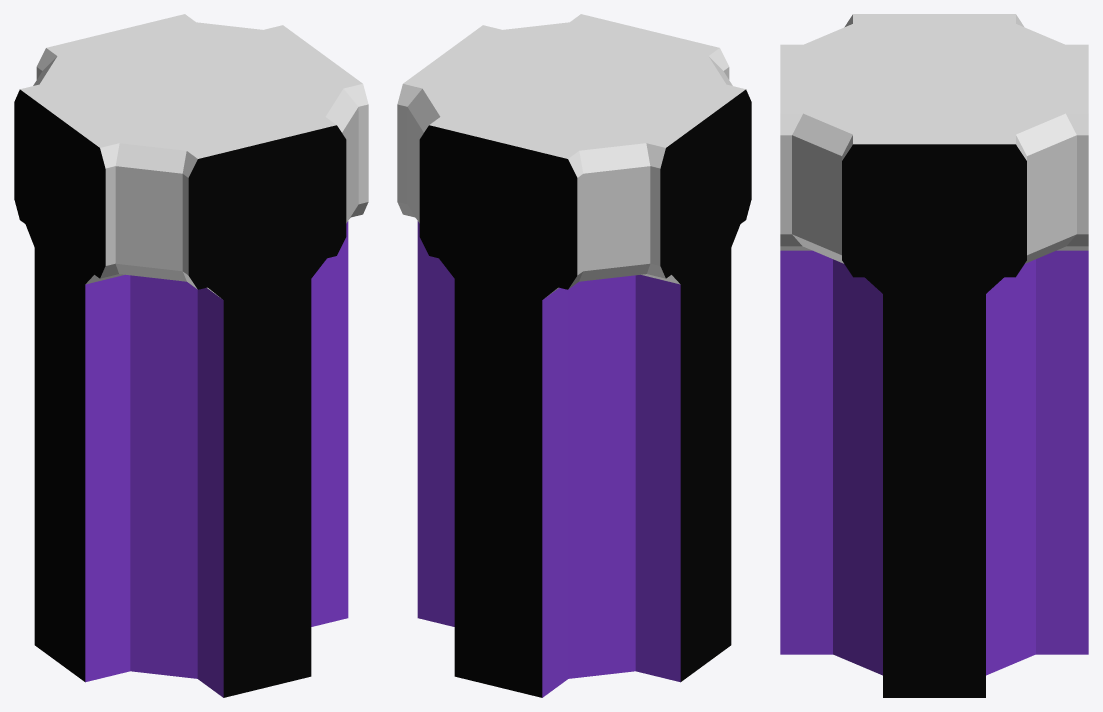
Rendered from Wall X.fbx.
The picture shows the model from 3 angles, left to right: view 1: azimuth 30°, elevation 25°; view 2: azimuth 150°, elevation 25°; view 3: azimuth 270°, elevation 25°; orthographic projection.
Parts seen in each view (by area): view 1: Wall X; view 2: Wall X; view 3: Wall X.
Part boxes in pixels (bbox=[...]): Wall X: bbox=[14, 14, 368, 697]; Wall X: bbox=[397, 14, 751, 697]; Wall X: bbox=[780, 14, 1088, 697].
Size of the model in its own units: 100 by 198 by 100.
